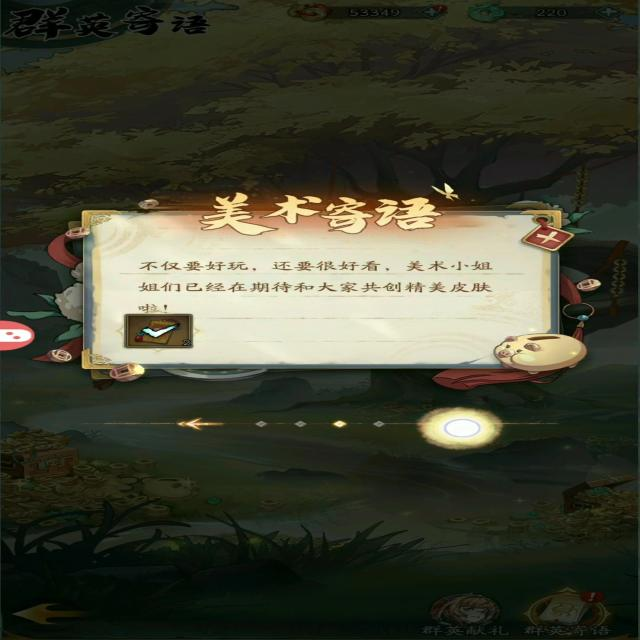operation-close: (518, 224, 590, 259)
operation-confirm-off: (117, 309, 216, 353)
operation-enter: (431, 405, 492, 443), (162, 411, 227, 437)
